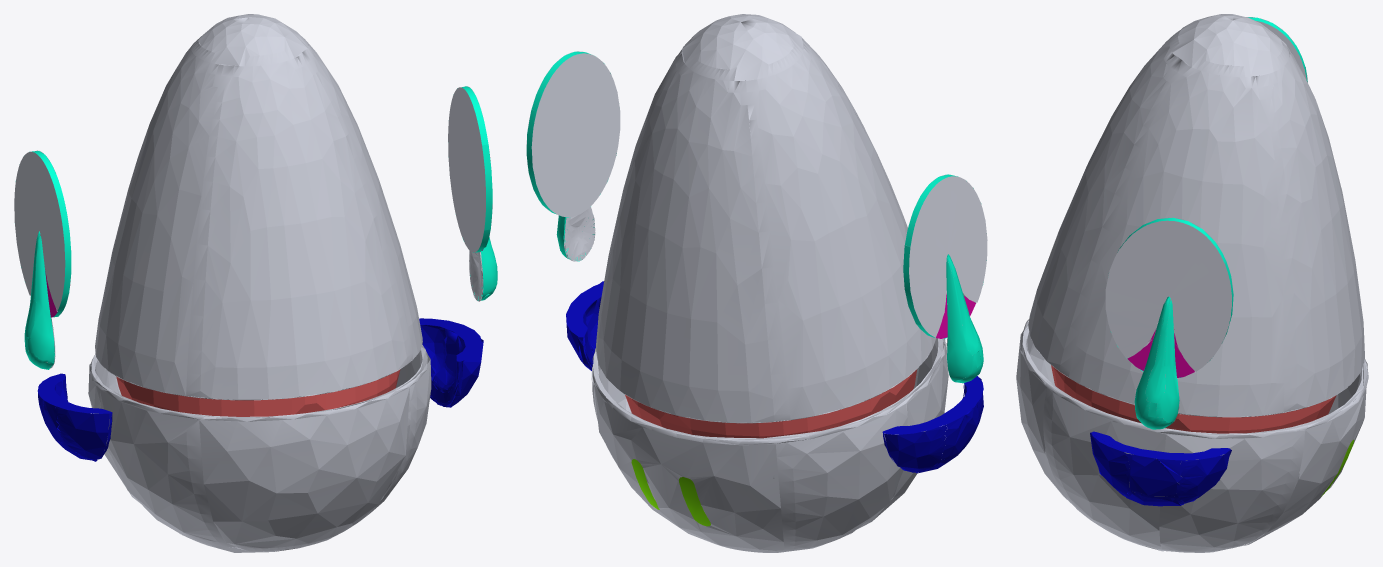
The model's file is nunu.fbx.
3 renders of one model, left to right at view 1: azimuth 30°, elevation 25°; view 2: azimuth 150°, elevation 25°; view 3: azimuth 270°, elevation 25°, orthographic. The views are drawn at different scales.
Parts seen in each view (by area): view 1: Body_1.002, 3DGeom~23.001, 3DGeom~39.001, 3DGeom~41.001, Body_2.001, Body_1.000, Body_1.001; view 2: Body_1.002, 3DGeom~23.001, 3DGeom~39.001, 3DGeom~41.001, Body_1.001, Body_2.001, Body_1.000, 3DGeom~24.001; view 3: Body_1.002, 3DGeom~23.001, 3DGeom~39.001, Body_1.000, 3DGeom~41.001, Body_2.001, 3DGeom~40.001.
Part boxes in pixels (<box>): Body_1.002: <box>95,14,422,400</box>; 3DGeom~23.001: <box>88,345,431,552</box>; 3DGeom~39.001: <box>14,86,492,368</box>; 3DGeom~41.001: <box>15,86,497,369</box>; Body_2.001: <box>116,369,400,416</box>; Body_1.000: <box>419,318,483,407</box>; Body_1.001: <box>37,373,112,461</box>; Body_1.002: <box>596,14,935,423</box>; 3DGeom~23.001: <box>591,338,948,552</box>; 3DGeom~39.001: <box>526,51,987,382</box>; 3DGeom~41.001: <box>526,51,986,383</box>; Body_1.001: <box>882,376,983,473</box>; Body_2.001: <box>625,369,916,438</box>; Body_1.000: <box>566,281,604,370</box>; 3DGeom~24.001: <box>631,459,710,526</box>; Body_1.002: <box>1028,14,1364,417</box>; 3DGeom~23.001: <box>1016,319,1368,552</box>; 3DGeom~39.001: <box>1105,17,1307,421</box>; Body_1.000: <box>1090,431,1231,506</box>; 3DGeom~41.001: <box>1110,17,1307,429</box>; Body_2.001: <box>1051,365,1336,433</box>; 3DGeom~40.001: <box>1127,329,1194,377</box>.
Bounding box in the file's own units: 553 × 613 × 377.
